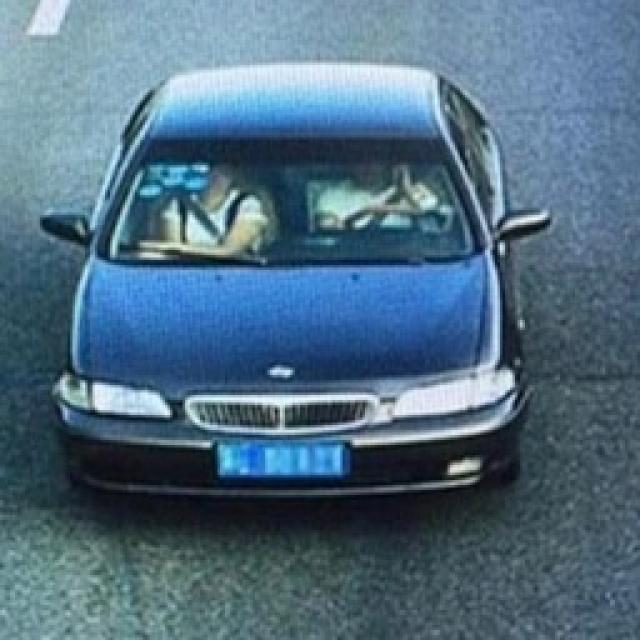windshield: (108, 138, 474, 272)
